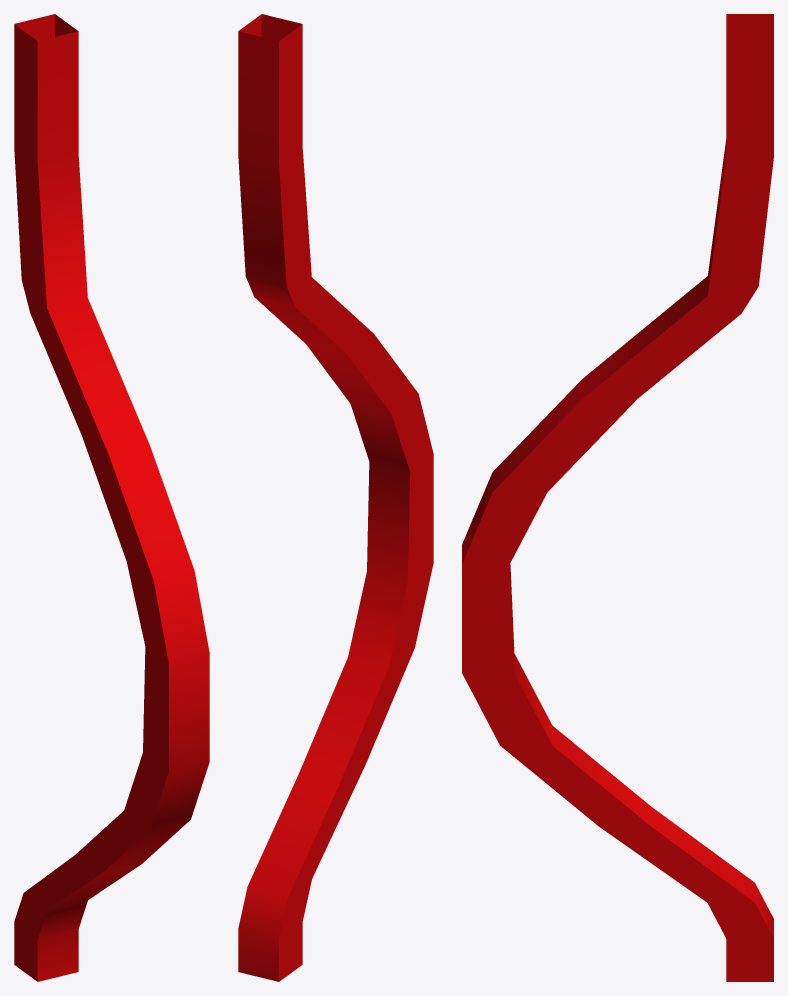
File: Railing Pool1.fbx
3 views of the same model, side by side, from view 1: azimuth 30°, elevation 25°; view 2: azimuth 150°, elevation 25°; view 3: azimuth 270°, elevation 25° (orthographic).
Visible parts, largest first — view 1: Railing Pool1; view 2: Railing Pool1; view 3: Railing Pool1.
Part boxes in pixels (left/top/right/bottom): Railing Pool1: left=14, top=14, right=209, bottom=981; Railing Pool1: left=238, top=14, right=433, bottom=981; Railing Pool1: left=462, top=14, right=773, bottom=981.
Size of the model in its own units: 5 by 110 by 32.8.
